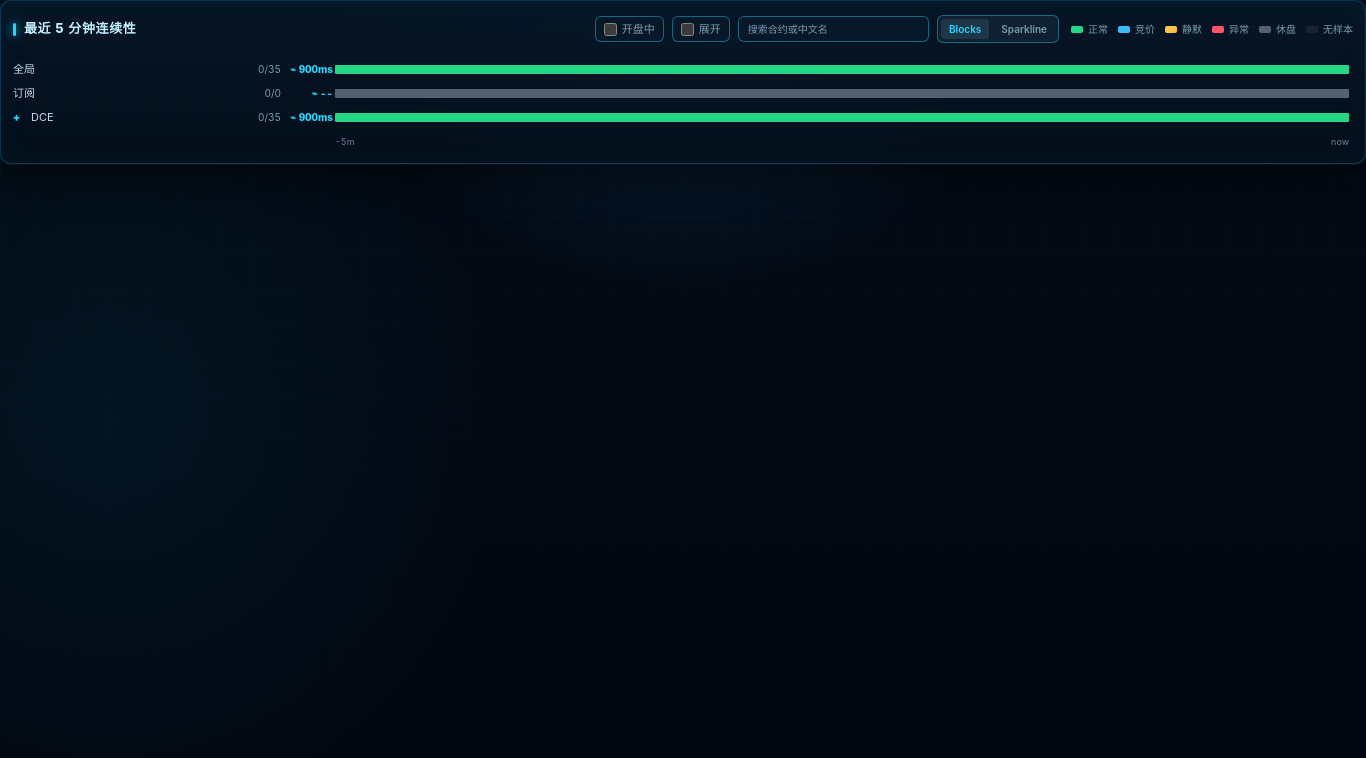
Scenario: ContinuityTimeline › shows every visible symbol when exchange grouping is disabled
Click the checkbox labelled "展开". click: (687, 29)
box: [681, 22, 694, 36]
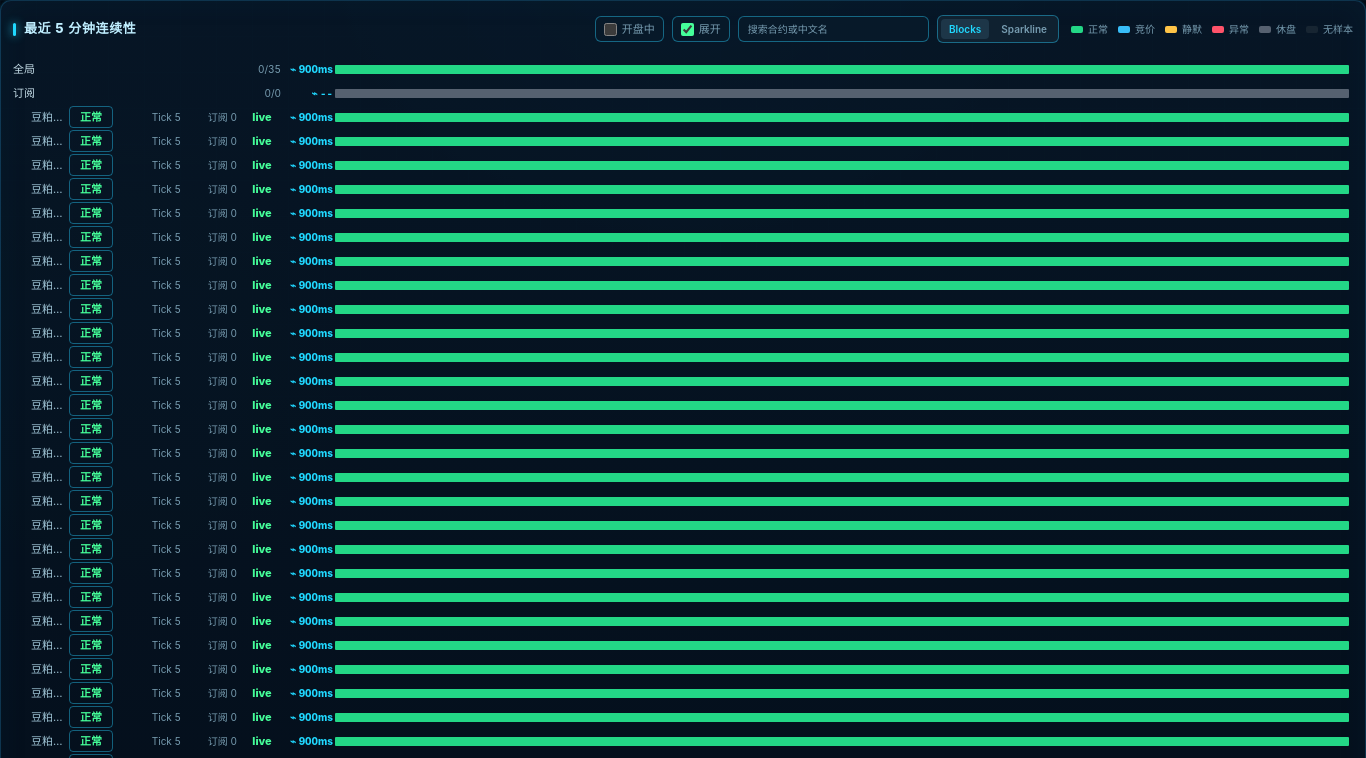
Check: the button "DCE" is gone
